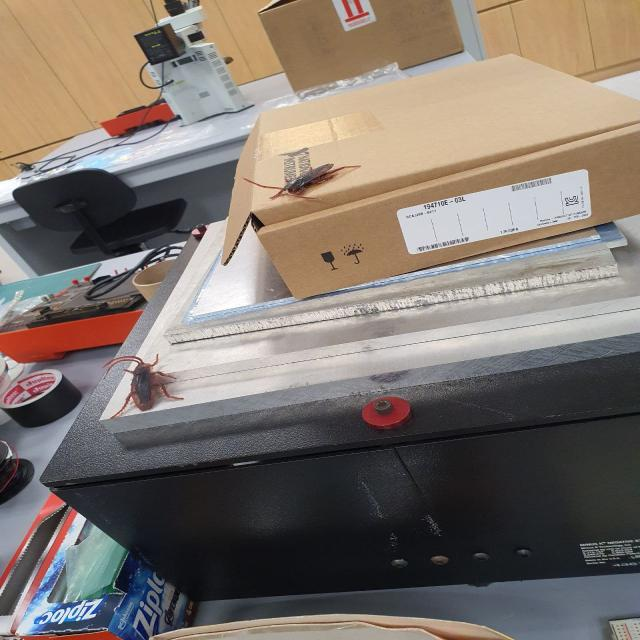Cockroach: (92, 350, 187, 412), (250, 151, 356, 205)
